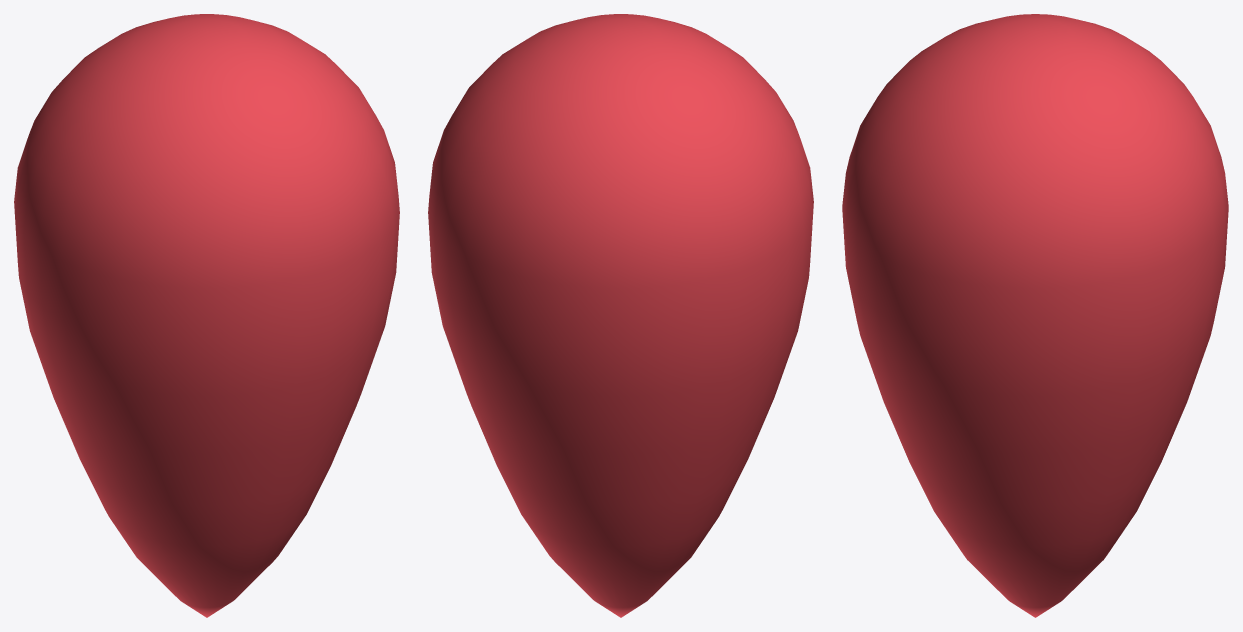
Rendered from Pin.glb.
3 renders of one model, left to right at view 1: azimuth 30°, elevation 25°; view 2: azimuth 150°, elevation 25°; view 3: azimuth 270°, elevation 25°, orthographic.
Parts seen in each view (by area): view 1: pin; view 2: pin; view 3: pin.
Part boxes in pixels (<box>): pin: <box>14,14,399,617</box>; pin: <box>428,14,813,617</box>; pin: <box>842,14,1228,617</box>.
Size of the model in its own units: 0.2435 by 0.4072 by 0.2435.
